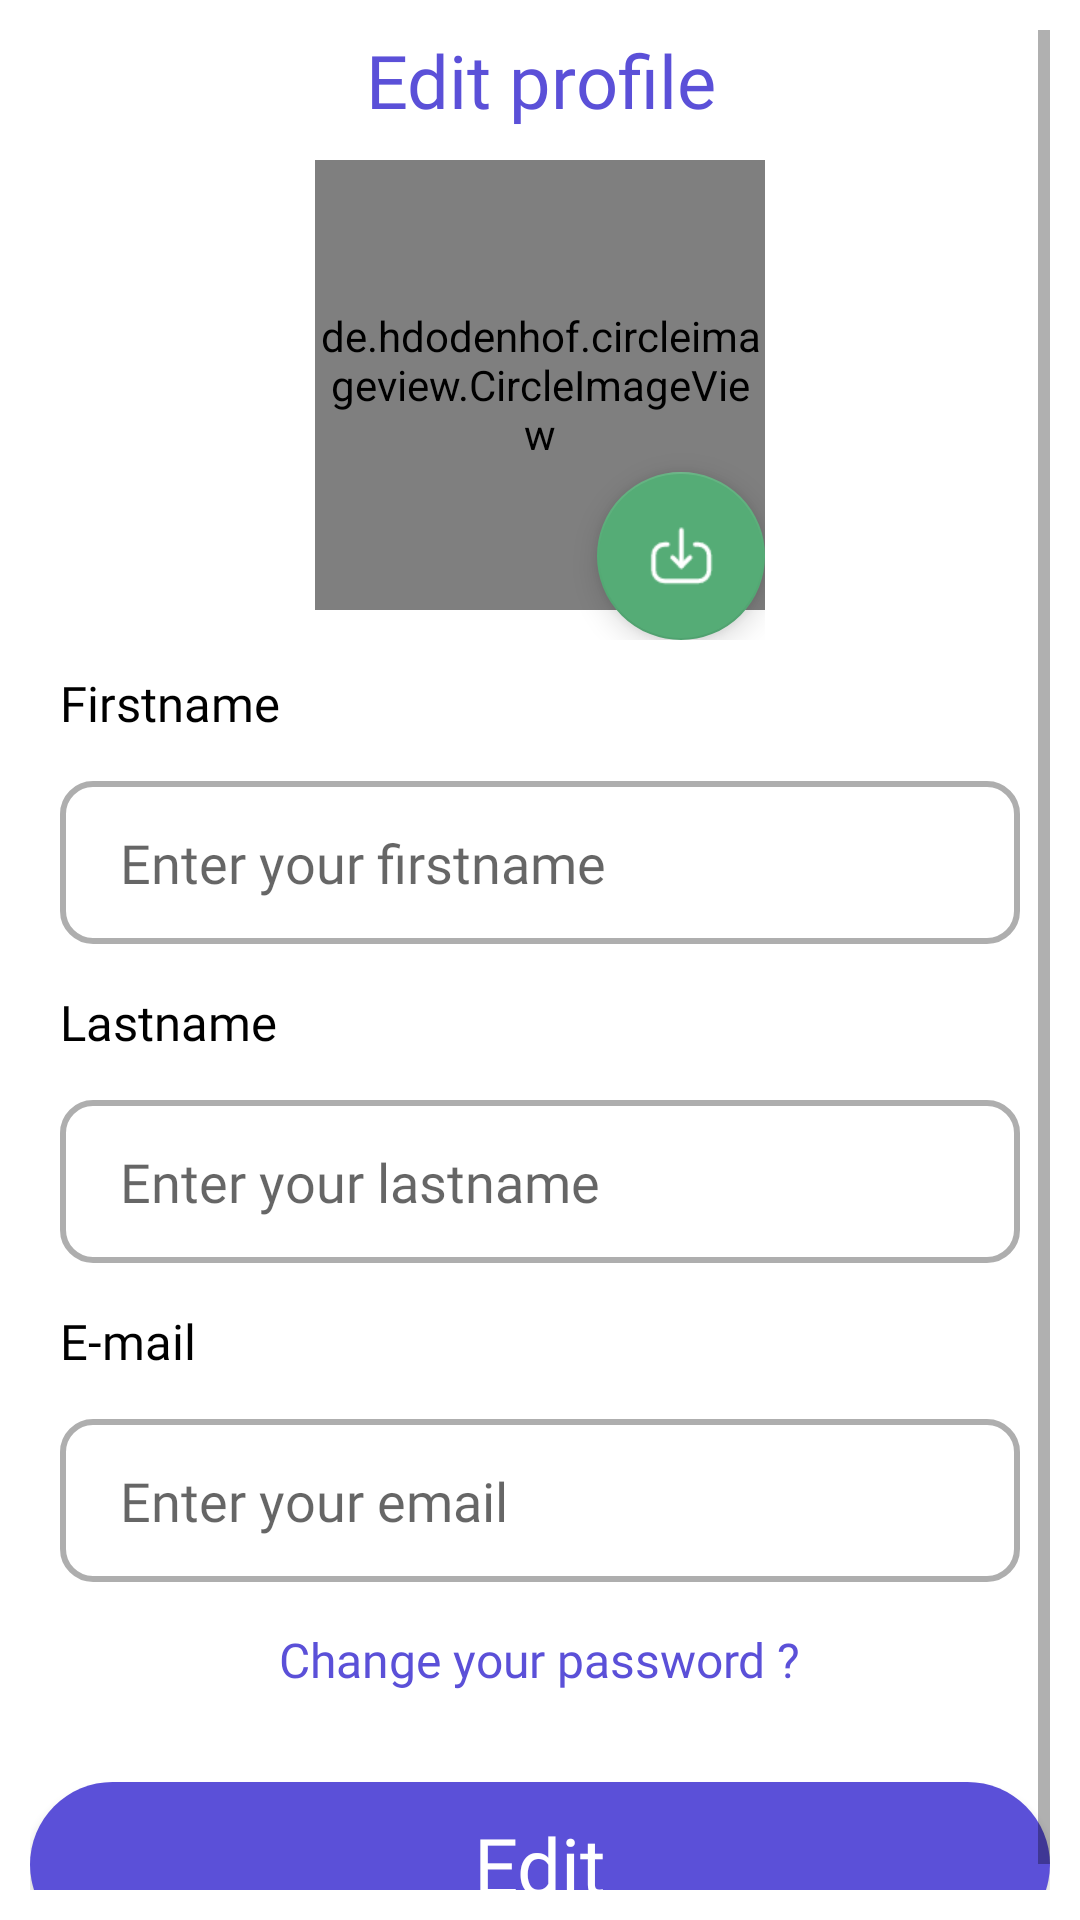

Icons on this 1080px x 1920px Android screen, each with the point to tap as [x,y]:
down: [681,556]
